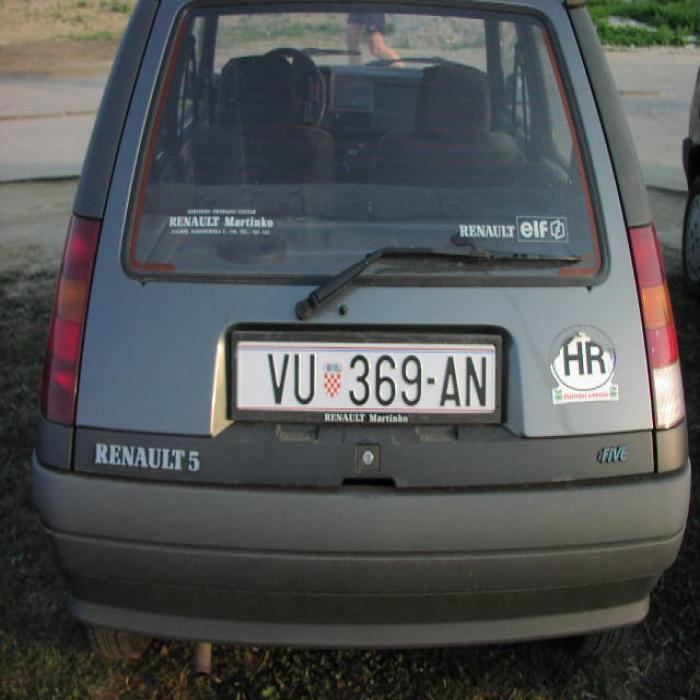number_plate: (238, 342, 494, 410)
